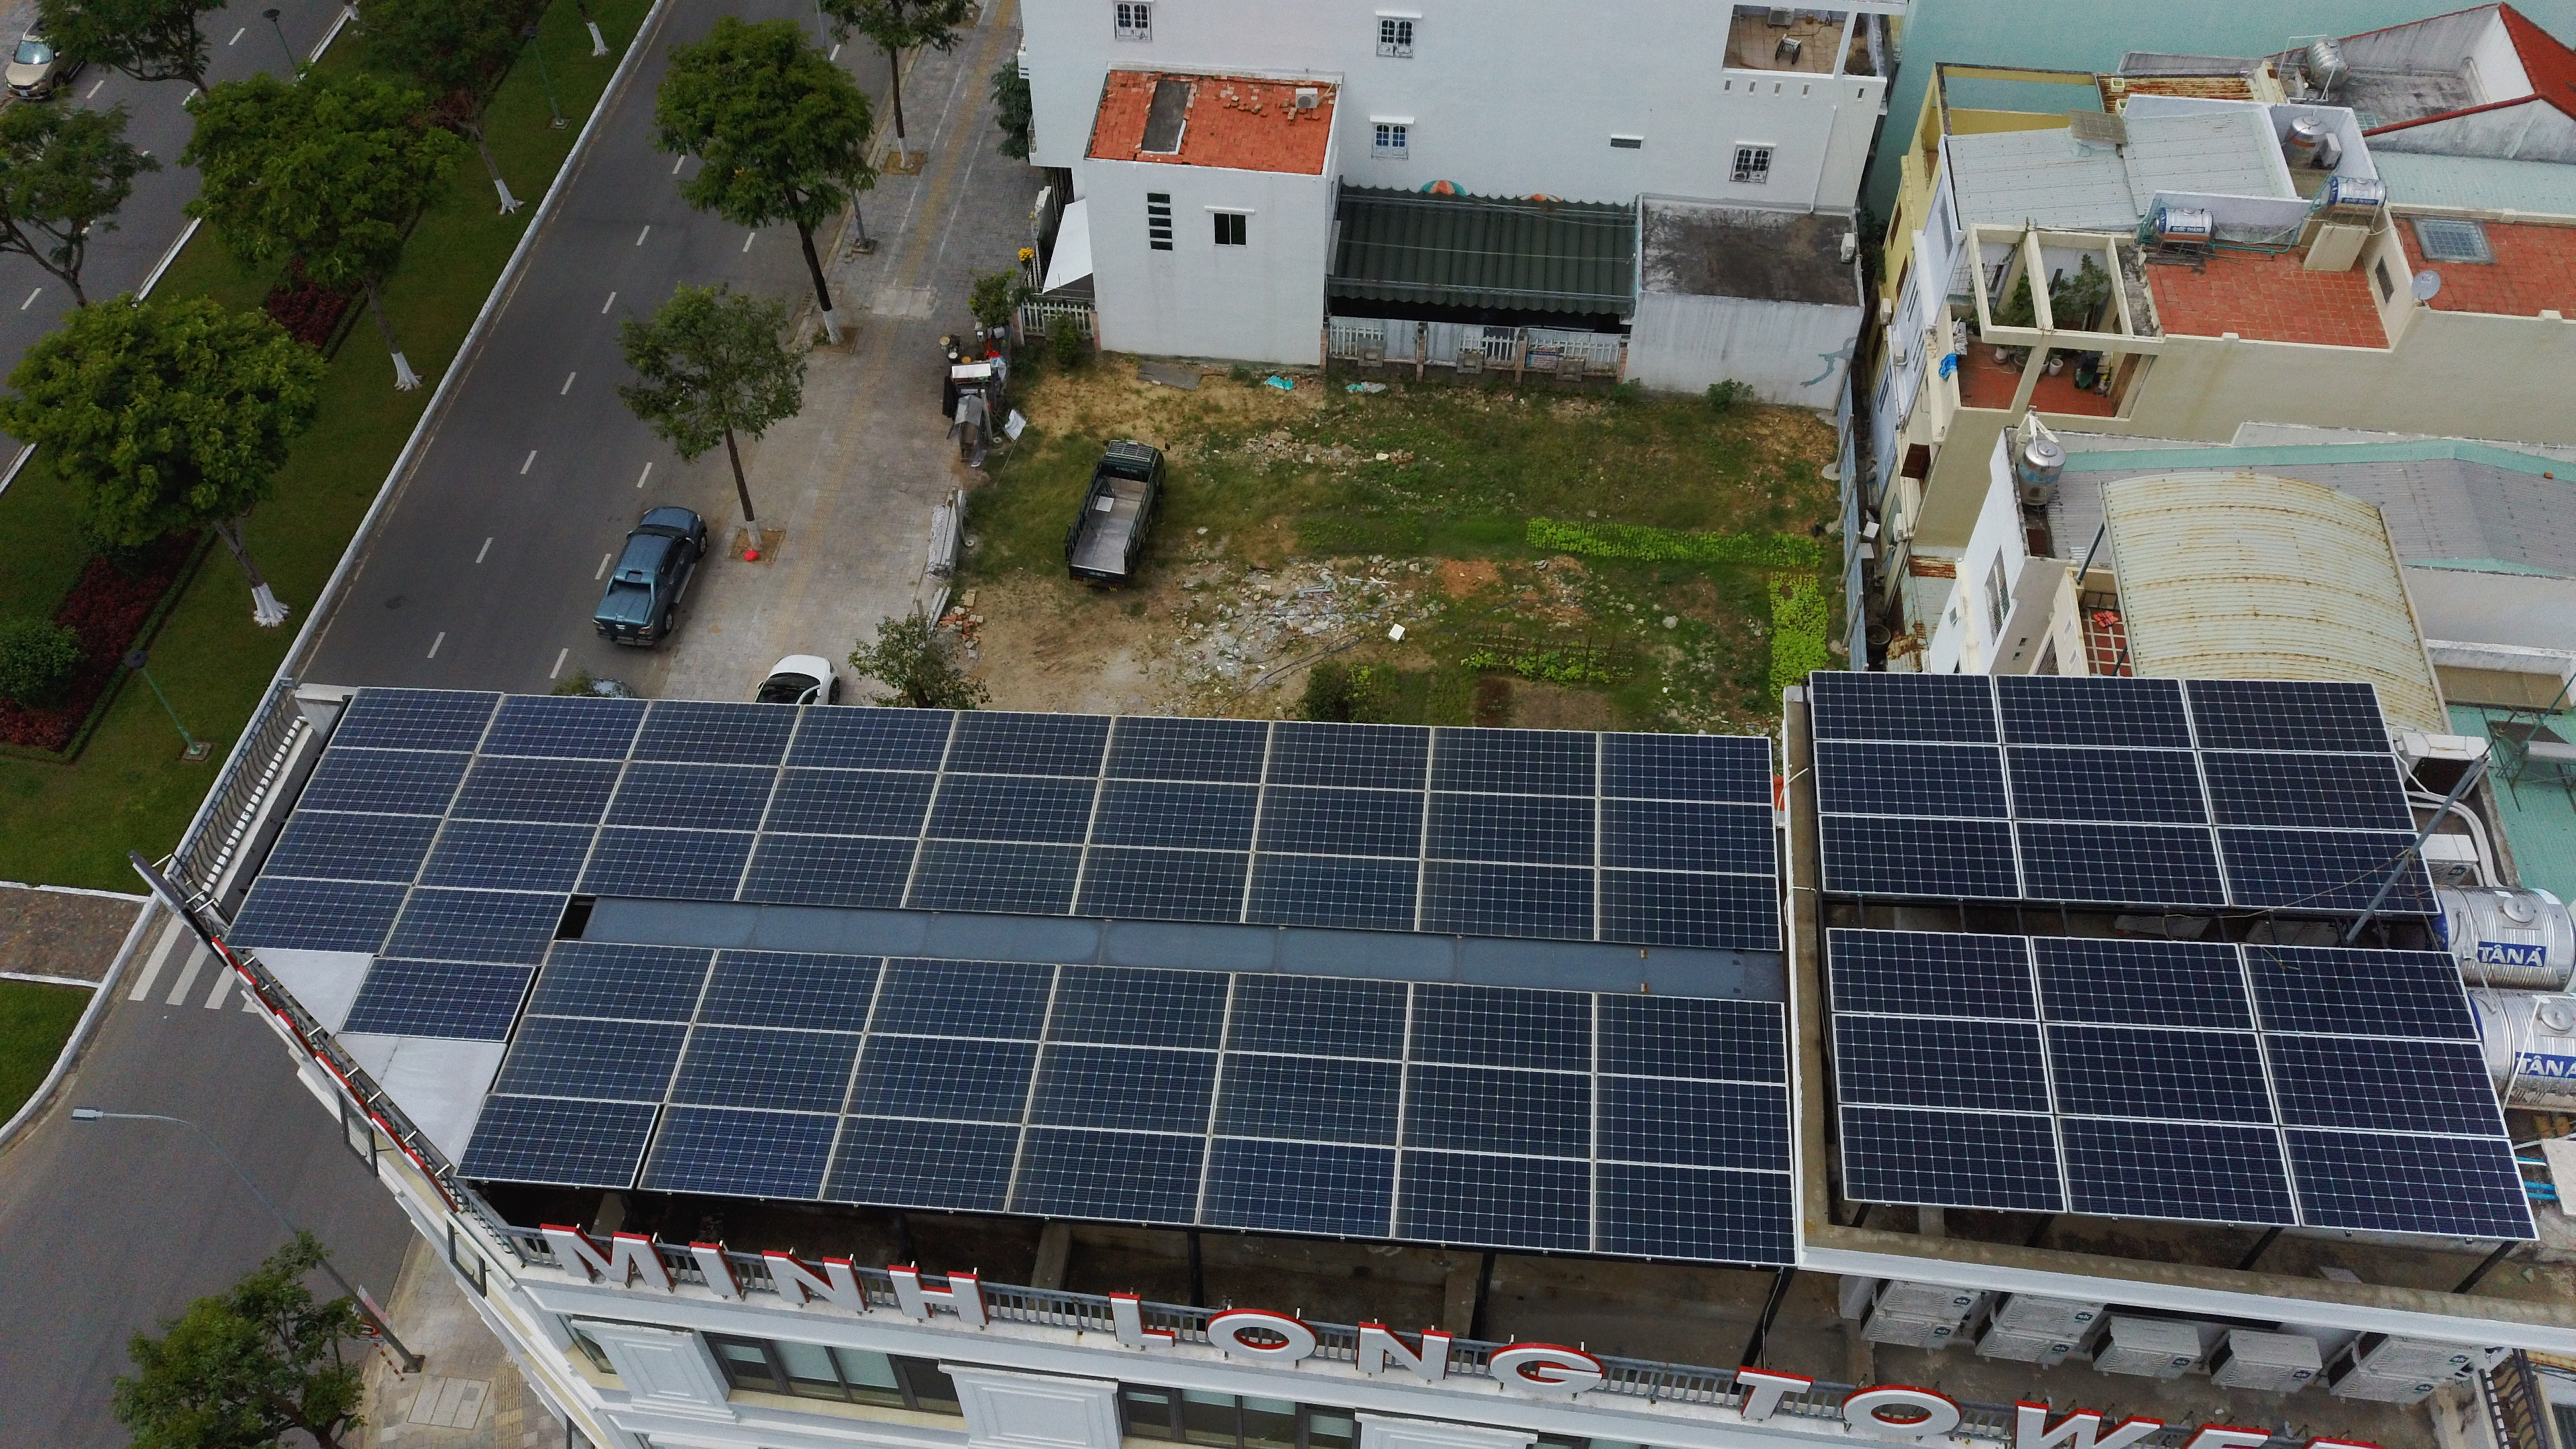solar: (2275, 1123, 2542, 1244), (2252, 1028, 2512, 1141), (2051, 1113, 2302, 1228), (1836, 1100, 2072, 1217), (2035, 1019, 2281, 1131), (2235, 941, 2482, 1046), (1828, 1010, 2058, 1118), (1589, 1157, 1799, 1269), (1389, 1143, 1596, 1254), (2028, 936, 2263, 1033), (1194, 1131, 1401, 1240), (1591, 1067, 1796, 1177), (1826, 924, 2045, 1026), (2208, 821, 2443, 916), (635, 1099, 846, 1203), (449, 1090, 667, 1191), (1003, 1122, 1212, 1226), (817, 1111, 1023, 1215), (1394, 1060, 1599, 1162), (2008, 816, 2235, 908), (1207, 1049, 1407, 1152), (1591, 991, 1792, 1092), (1021, 1039, 1224, 1138), (1396, 978, 1599, 1077), (839, 1031, 1044, 1129), (488, 1010, 695, 1106), (1996, 741, 2219, 830), (2192, 747, 2419, 833), (663, 1021, 867, 1116), (1817, 810, 2026, 901), (1219, 968, 1414, 1063), (336, 952, 536, 1044), (863, 954, 1062, 1044), (1040, 962, 1238, 1053), (518, 938, 720, 1026), (690, 947, 886, 1035), (1591, 863, 1782, 954), (2180, 676, 2396, 755), (1810, 740, 2015, 823), (1412, 855, 1603, 941), (377, 883, 571, 968), (221, 872, 414, 957), (734, 828, 927, 913), (1240, 847, 1424, 936), (1990, 674, 2199, 752), (899, 835, 1088, 920), (1592, 793, 1782, 878), (410, 814, 603, 897), (1805, 669, 2005, 747), (1067, 846, 1256, 927), (255, 809, 448, 888), (571, 823, 761, 902), (1419, 787, 1603, 869), (1249, 782, 1431, 863), (594, 757, 782, 835), (918, 770, 1106, 847), (755, 764, 947, 840), (442, 750, 626, 828), (1596, 729, 1775, 809), (290, 745, 478, 819), (1085, 777, 1265, 853), (934, 708, 1118, 782), (1260, 720, 1435, 796), (1426, 724, 1601, 800), (474, 690, 653, 764), (326, 685, 506, 757), (625, 697, 805, 770), (780, 702, 959, 775), (1097, 715, 1272, 787)
